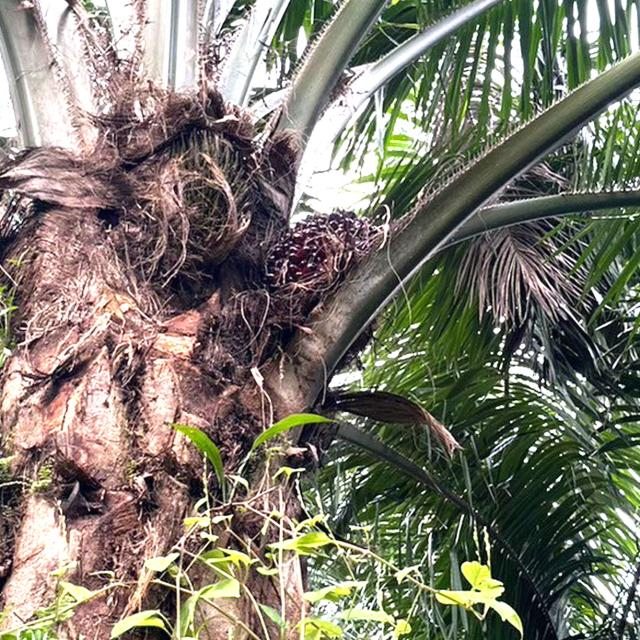ripe: (251, 196, 394, 317)
